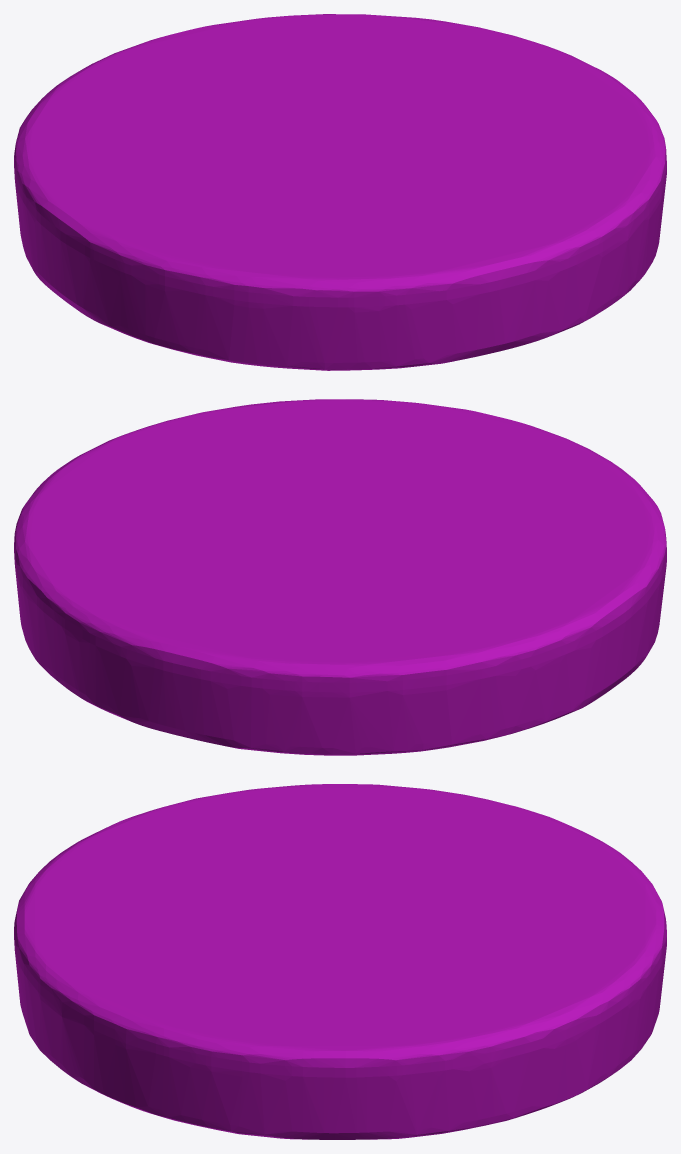
The model's file is right_hip_pitch_link_part_22.obj.
The picture shows the model from 3 angles, top to bottom: view 1: azimuth 30°, elevation 25°; view 2: azimuth 150°, elevation 25°; view 3: azimuth 270°, elevation 25°; orthographic projection.
Bounding box in the file's own units: 0.1108 × 0.0175 × 0.1108.
